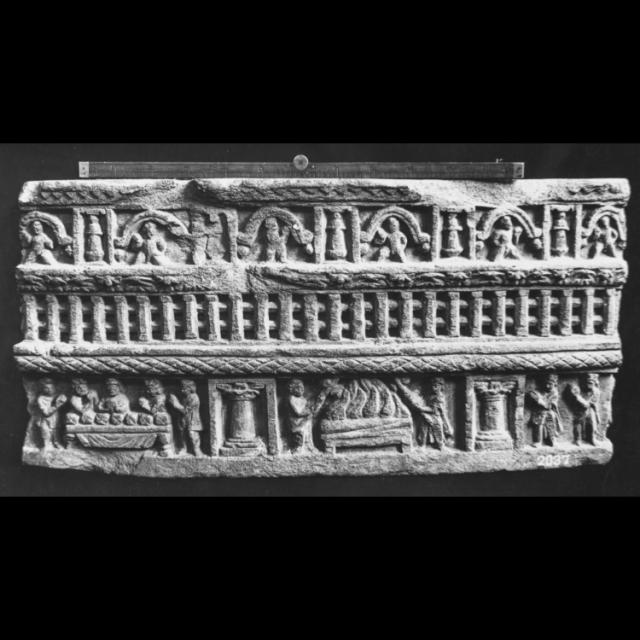buddha-pyre: (66, 380, 171, 455), (321, 379, 412, 452)
